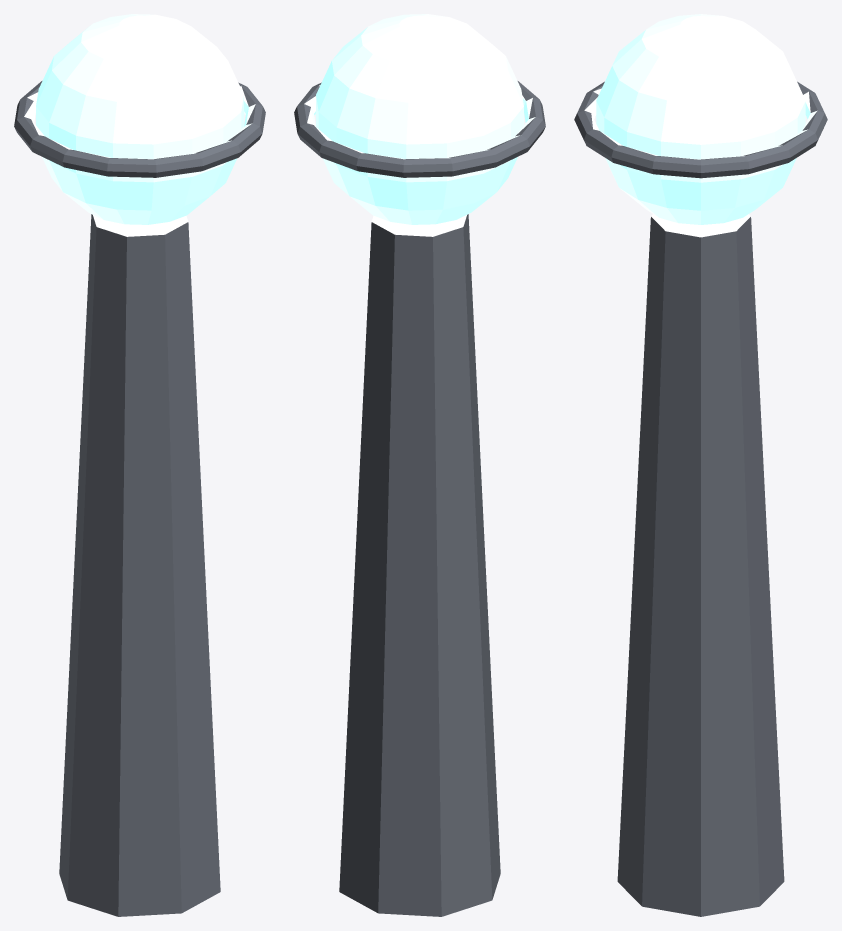
The model's file is beacon_lantern.glb.
3 renders of one model, left to right at view 1: azimuth 30°, elevation 25°; view 2: azimuth 150°, elevation 25°; view 3: azimuth 270°, elevation 25°, orthographic.
Visible parts, largest first — view 1: BeaconLantern; view 2: BeaconLantern; view 3: BeaconLantern.
Part boxes in pixels (x1,y1,x2,y2): BeaconLantern: [14, 14, 265, 916]; BeaconLantern: [294, 14, 545, 916]; BeaconLantern: [574, 14, 827, 916].
Size of the model in its own units: 0.76 by 2.83 by 0.76.
